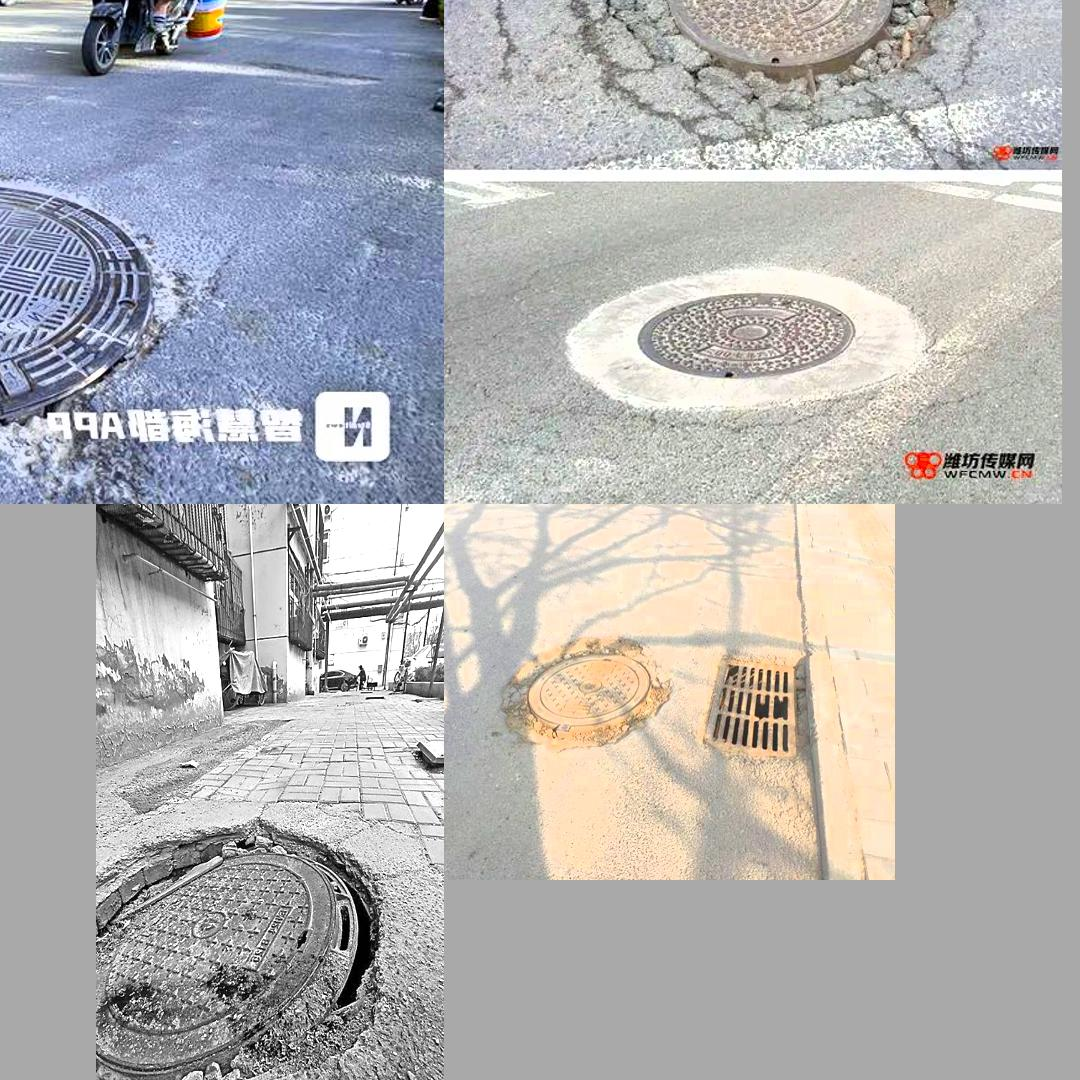circle: (95, 801, 397, 1080), (0, 143, 232, 453), (584, 0, 984, 126), (500, 626, 676, 756)
